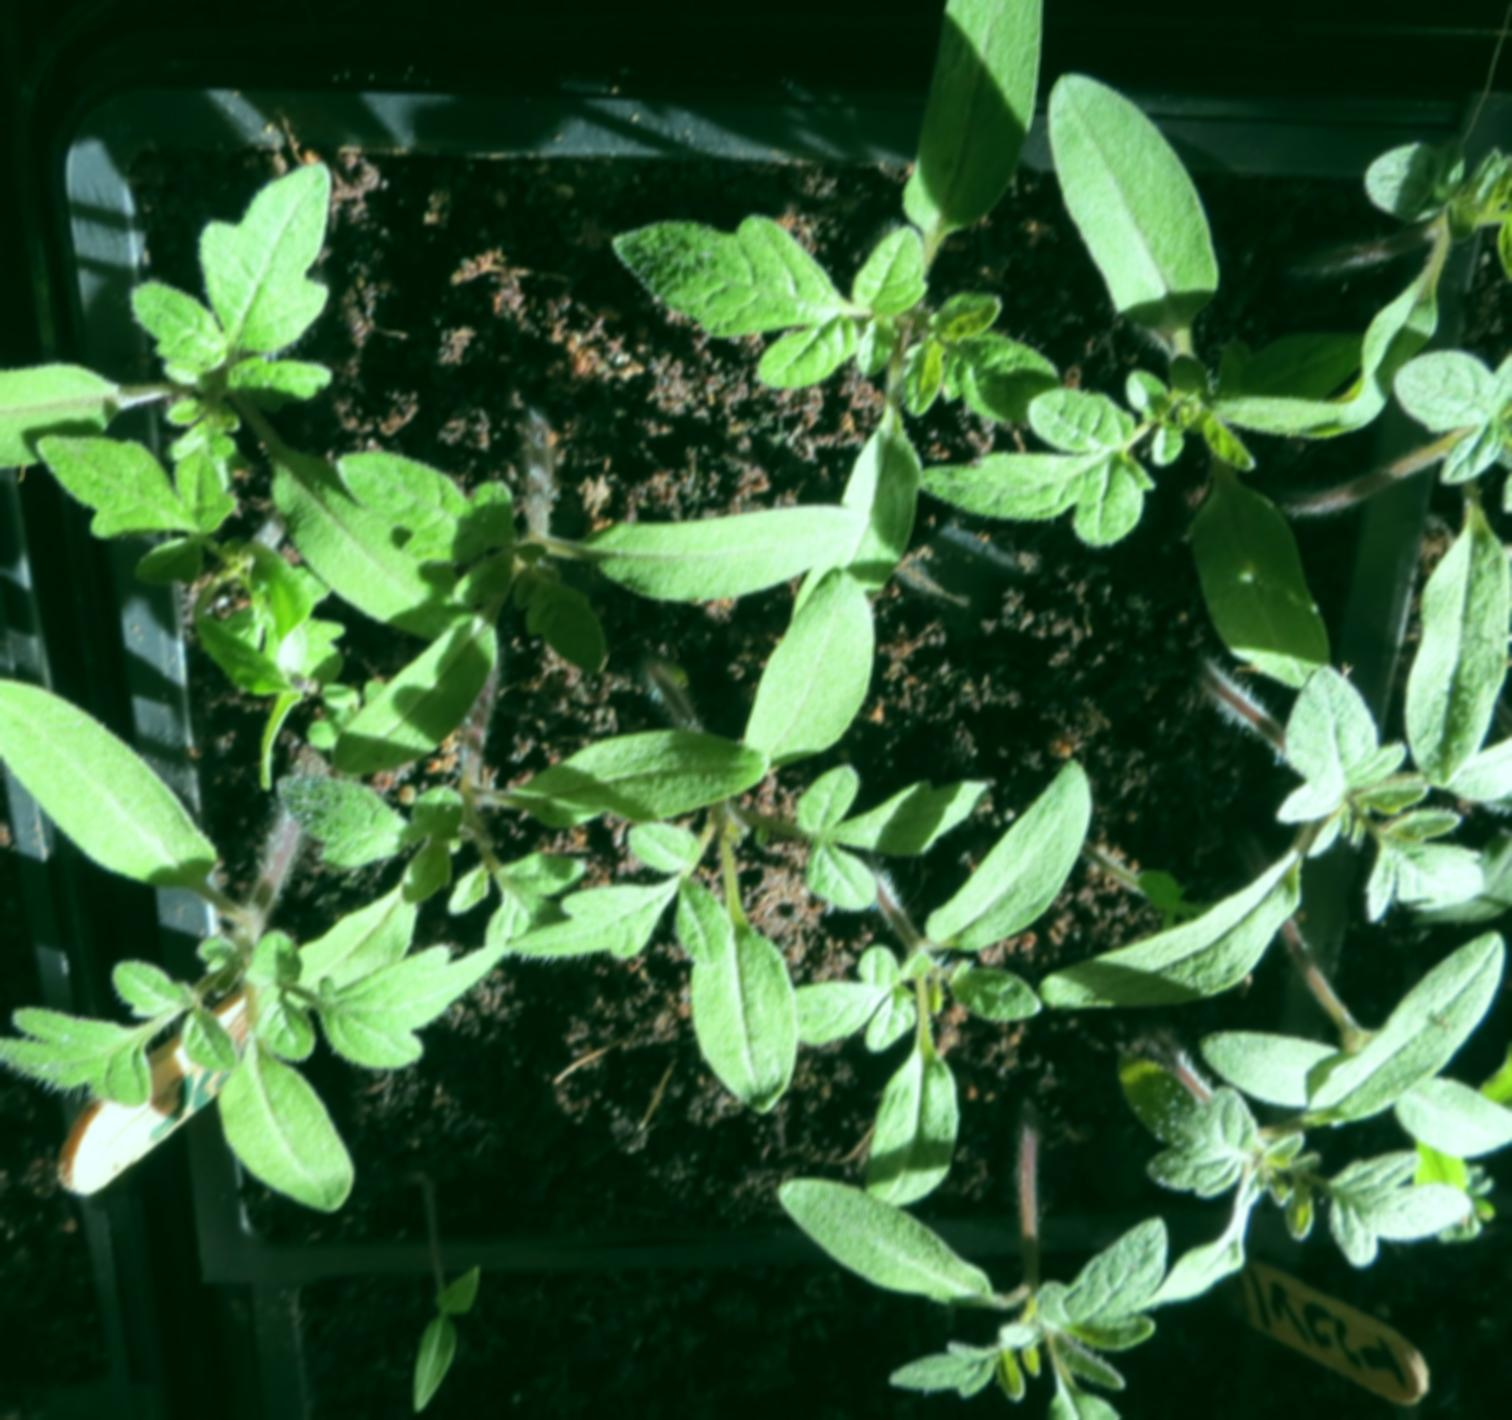Tomato leaf: (133, 144, 368, 414), (1044, 61, 1228, 371), (1277, 926, 1512, 1146), (0, 657, 202, 909), (1173, 408, 1345, 702), (905, 747, 1098, 988), (917, 382, 1180, 557), (1024, 863, 1317, 1012), (887, 0, 1064, 239), (773, 1165, 1029, 1323), (1399, 460, 1512, 814), (601, 175, 835, 342), (0, 970, 246, 1114), (726, 569, 879, 787), (331, 579, 504, 770), (210, 1016, 356, 1240), (585, 495, 873, 607), (312, 924, 519, 1072), (682, 896, 799, 1140), (845, 1009, 976, 1214), (1033, 1198, 1166, 1356), (49, 447, 218, 557), (1017, 1317, 1152, 1420)
